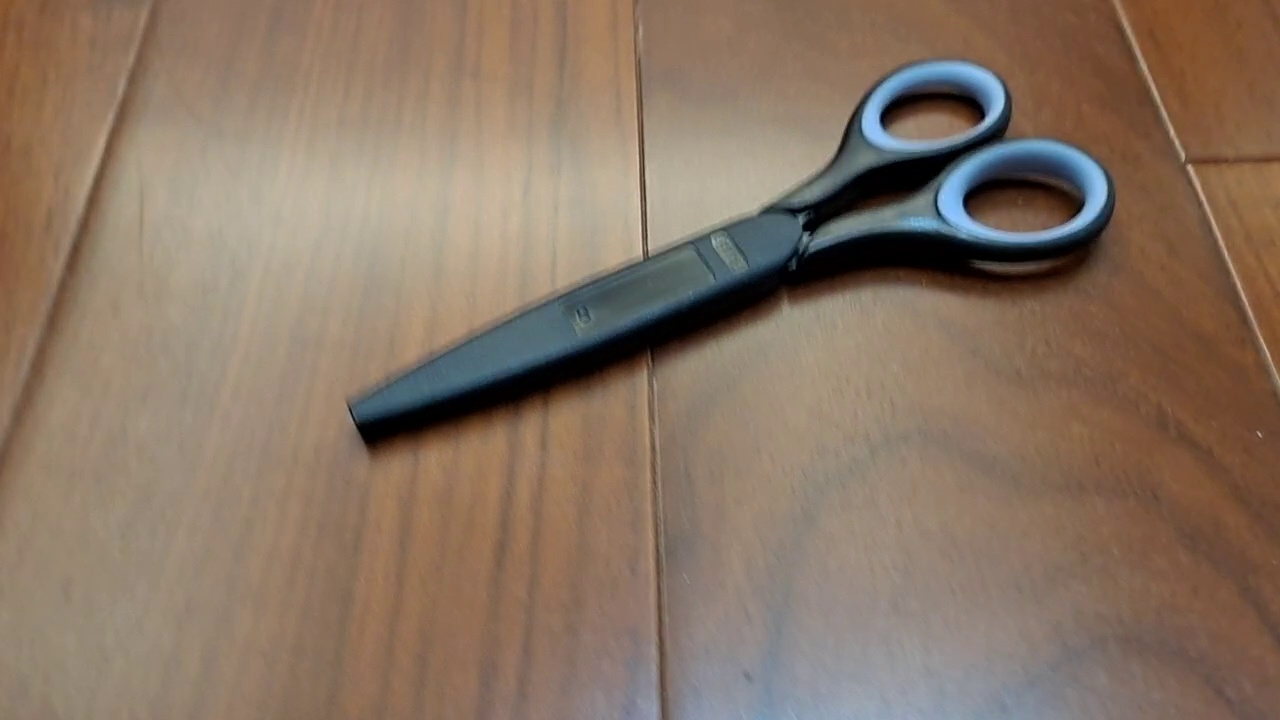scissors: (343, 54, 1117, 452)
